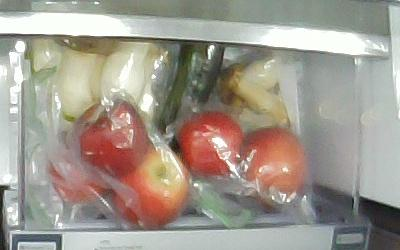apple_vinyl: (109, 143, 190, 227), (70, 97, 149, 174), (239, 125, 305, 196), (177, 109, 244, 178), (46, 149, 111, 204)
